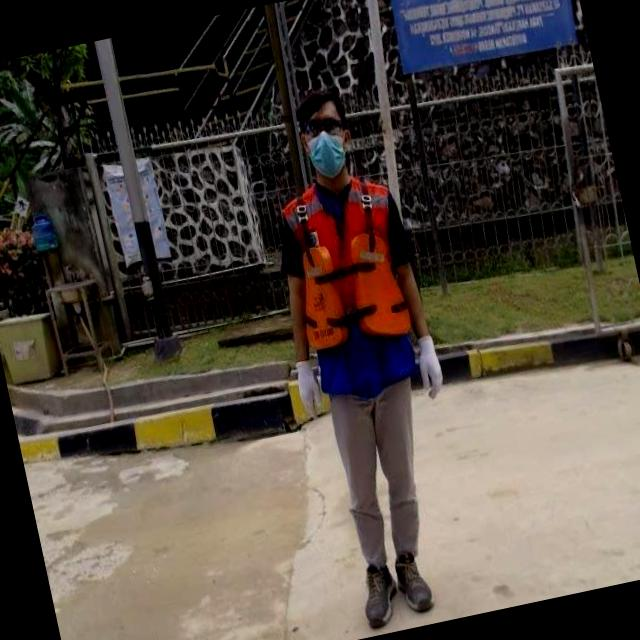vest: (276, 176, 427, 401)
